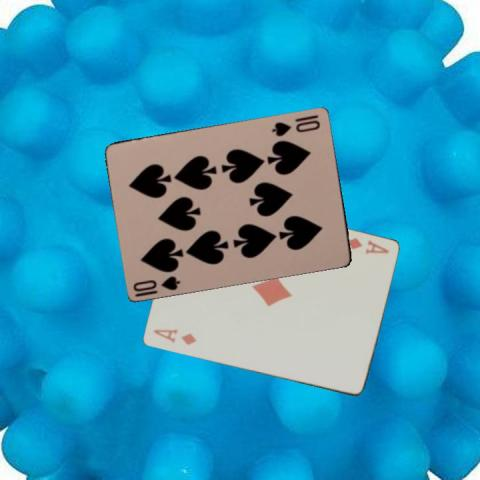10s: (131, 273, 182, 297), (270, 117, 322, 137)
Ad: (150, 326, 198, 347), (343, 235, 391, 255)
